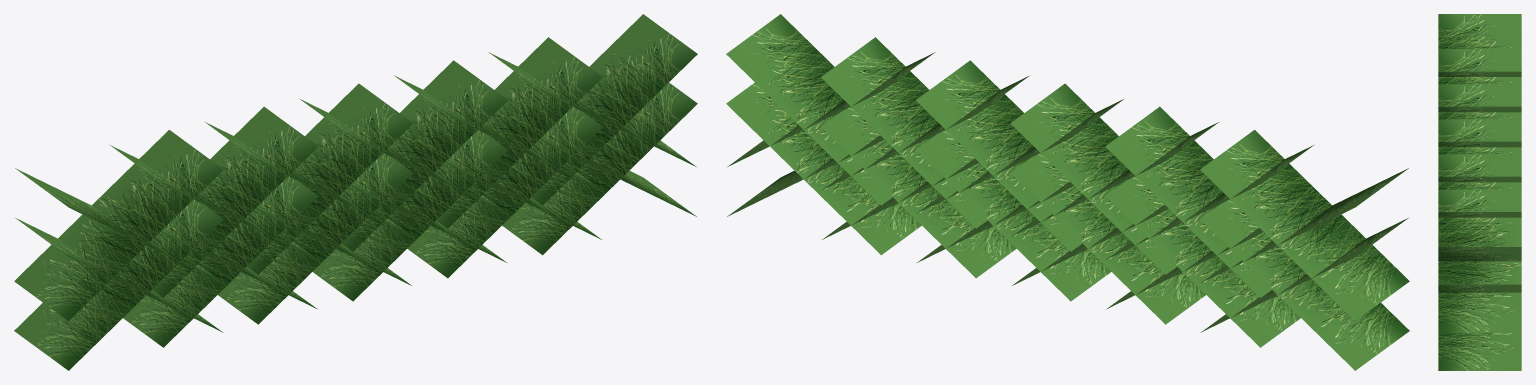
File: grass.FBX
3 renders of one model, left to right at view 1: azimuth 30°, elevation 25°; view 2: azimuth 150°, elevation 25°; view 3: azimuth 270°, elevation 25°, orthographic. The views are drawn at different scales.
Parts seen in each view (by area): view 1: grass; view 2: grass; view 3: grass.
Boxes of the visible parts, x1,y1,x2,y2 form: grass: (14,14,697,370); grass: (726,14,1409,370); grass: (1438,14,1521,370).
Bounding box in the file's own units: 133 × 20 × 32.94.
